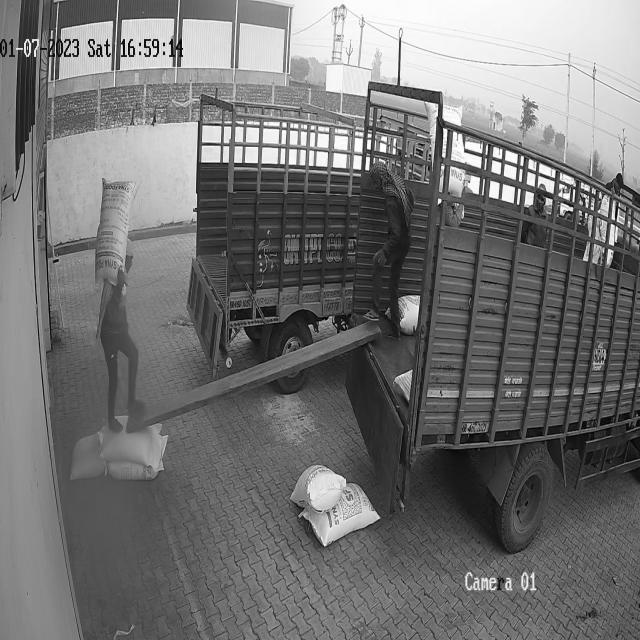sack: (300, 482, 380, 546), (95, 178, 134, 292), (97, 416, 161, 464), (290, 464, 345, 514), (106, 435, 167, 479), (68, 435, 105, 481)
